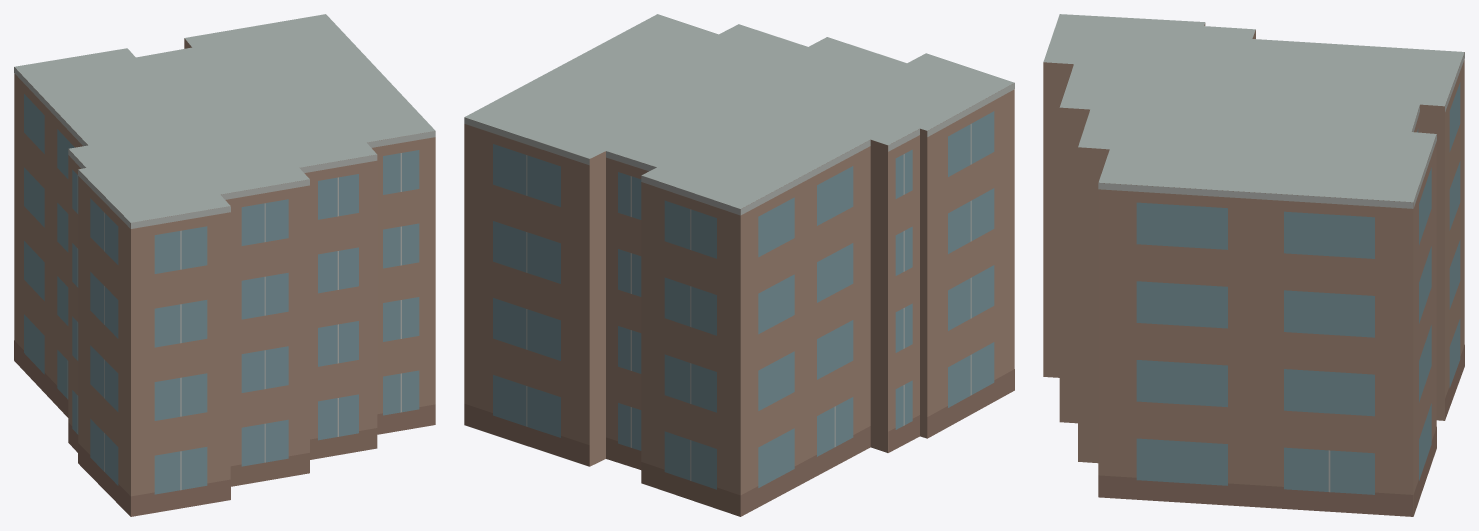
The model's file is survey-upis-32739858.glb.
The picture shows the model from 3 angles, left to right: view 1: azimuth 30°, elevation 25°; view 2: azimuth 150°, elevation 25°; view 3: azimuth 270°, elevation 25°; orthographic projection. The views are drawn at different scales.
Visible parts, largest first — view 1: survey-upis-32739858.tmp; view 2: survey-upis-32739858.tmp; view 3: survey-upis-32739858.tmp.
Boxes of the visible parts, x1,y1,x2,y2 form: survey-upis-32739858.tmp: (14,14,435,516); survey-upis-32739858.tmp: (464,14,1014,516); survey-upis-32739858.tmp: (1043,14,1464,516).
Bounding box in the file's own units: 14.9 × 11.6 × 14.09.
